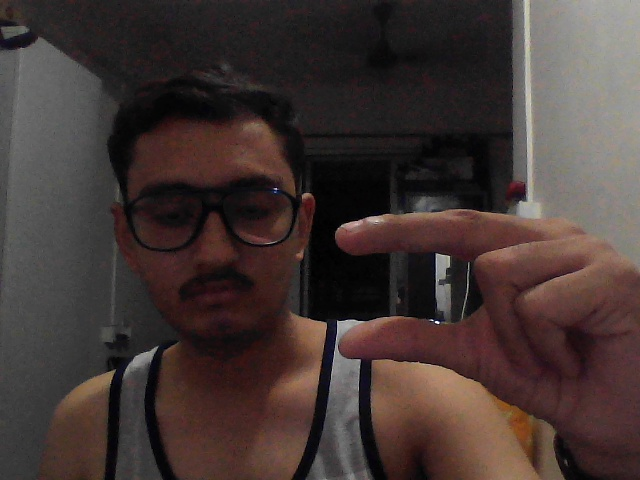No: (302, 162, 595, 413)
